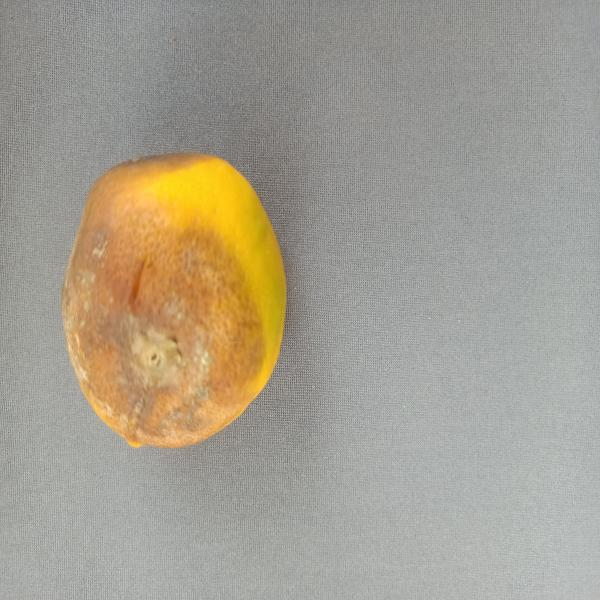Scab: (45, 136, 301, 460)
